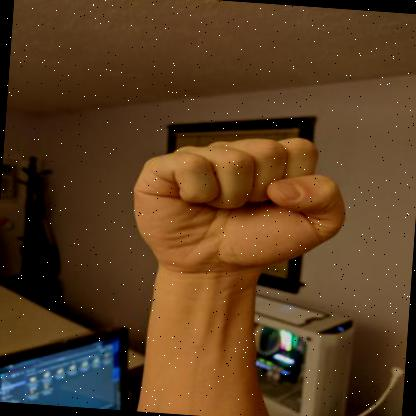S: (133, 137, 345, 280)
